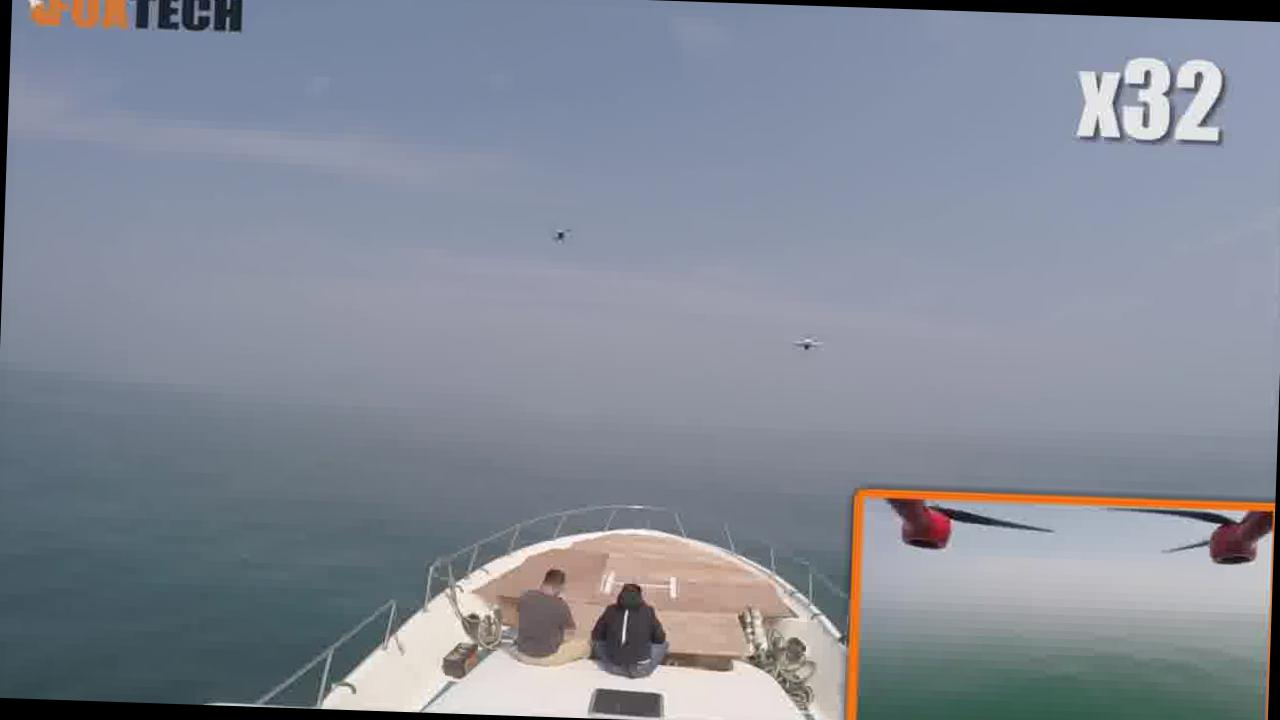drone: (540, 218, 584, 256), (784, 325, 824, 357)
